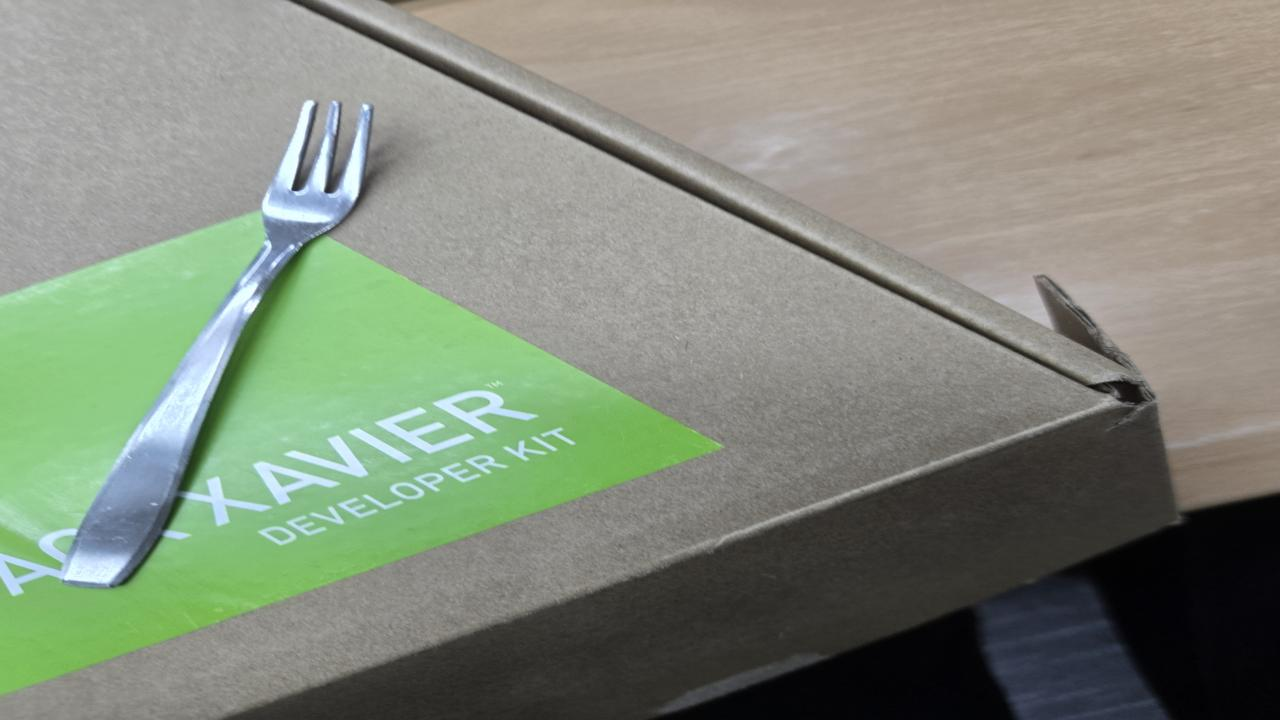fork: (64, 99, 385, 586)
